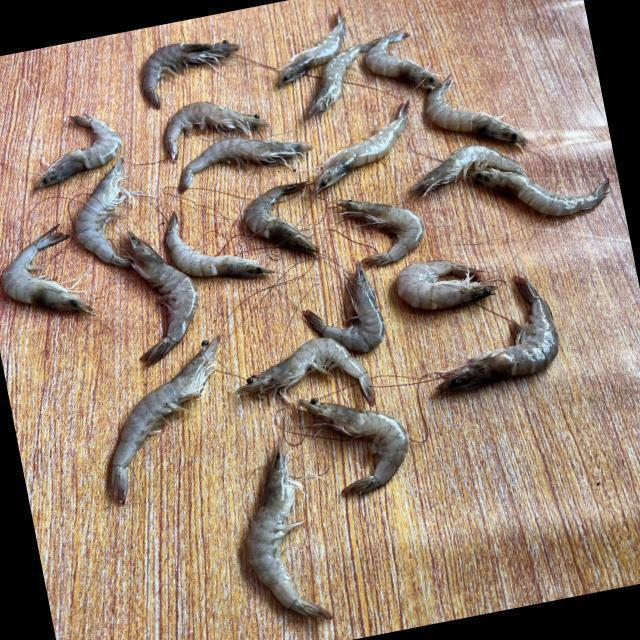shrimp: (110, 336, 219, 504), (246, 441, 332, 620), (436, 276, 560, 393), (299, 399, 409, 495), (127, 232, 198, 366), (237, 338, 375, 406), (314, 100, 410, 193), (1, 226, 94, 315), (302, 262, 385, 352), (74, 157, 140, 268), (177, 138, 312, 191), (165, 212, 273, 277), (427, 76, 528, 145), (469, 168, 611, 216), (142, 40, 239, 108), (34, 114, 120, 188), (164, 101, 269, 161), (337, 199, 425, 267), (410, 144, 528, 194), (276, 10, 346, 86), (245, 182, 318, 253), (396, 260, 497, 310), (366, 29, 442, 89), (308, 44, 367, 117)
